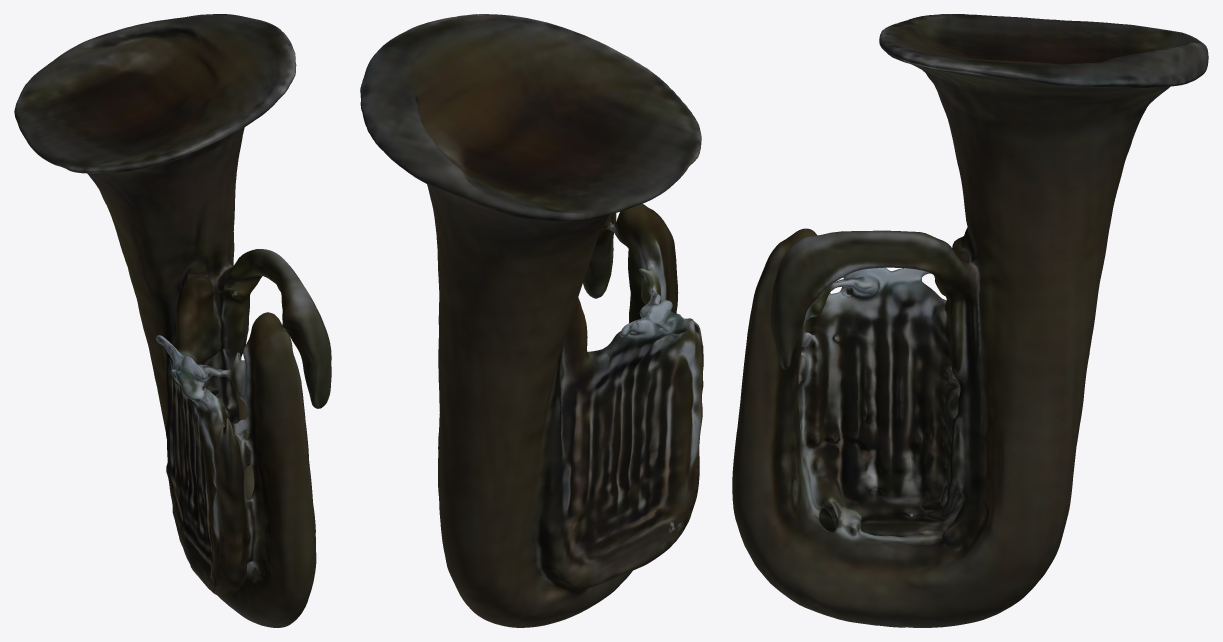
The model's file is bobbysh.glb.
The picture shows the model from 3 angles, left to right: view 1: azimuth 30°, elevation 25°; view 2: azimuth 150°, elevation 25°; view 3: azimuth 270°, elevation 25°; orthographic projection. The views are drawn at different scales.
Parts seen in each view (by area): view 1: high_poly; view 2: high_poly; view 3: high_poly.
Boxes of the visible parts, x1,y1,x2,y2 form: high_poly: (14,14,331,627); high_poly: (360,14,703,627); high_poly: (732,14,1208,627).
Size of the model in its own units: 0.4895 by 1 by 0.7211.
1 material, 1 textured.
